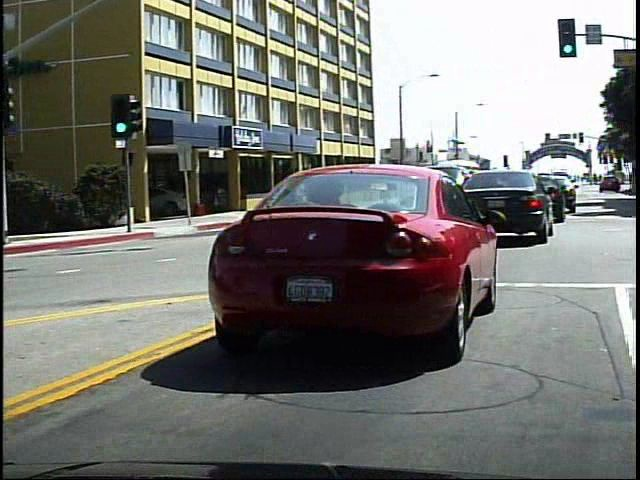person: (265, 177, 286, 213)
